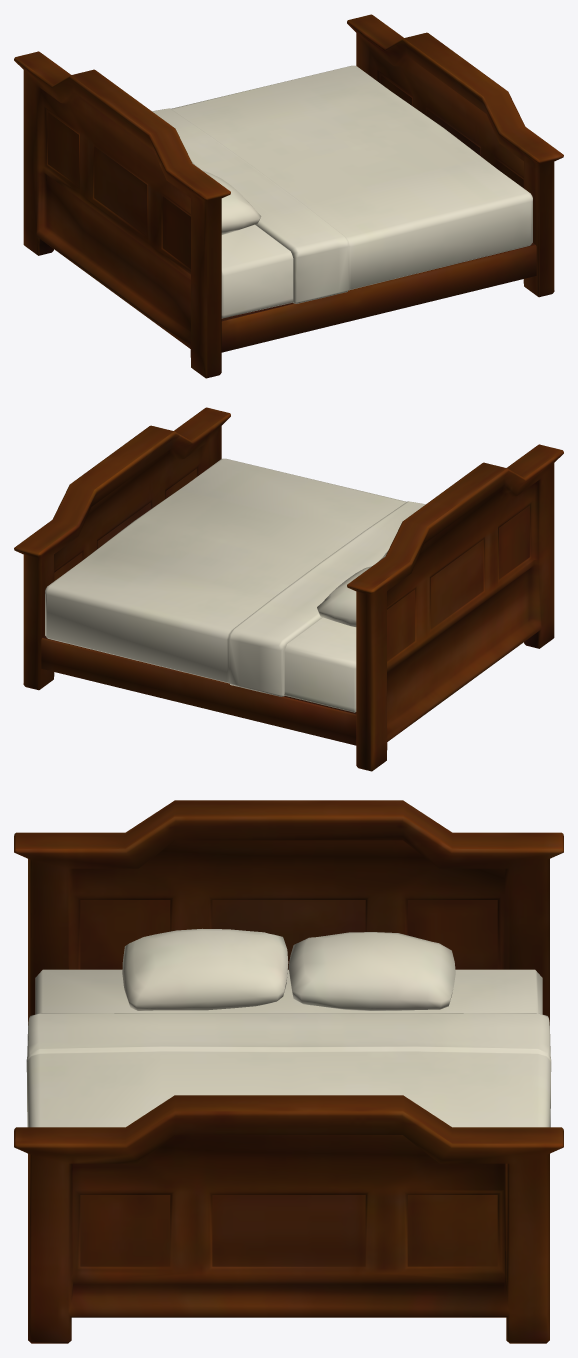
The picture shows the model from 3 angles, top to bottom: view 1: azimuth 30°, elevation 25°; view 2: azimuth 150°, elevation 25°; view 3: azimuth 270°, elevation 25°; orthographic projection. The views are drawn at different scales.
Bounding box in the file's own units: 19.91 × 11.05 × 18.45.
1 material, 1 textured.
